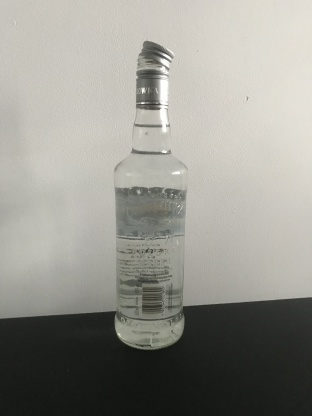nakretka: (134, 39, 175, 109)
